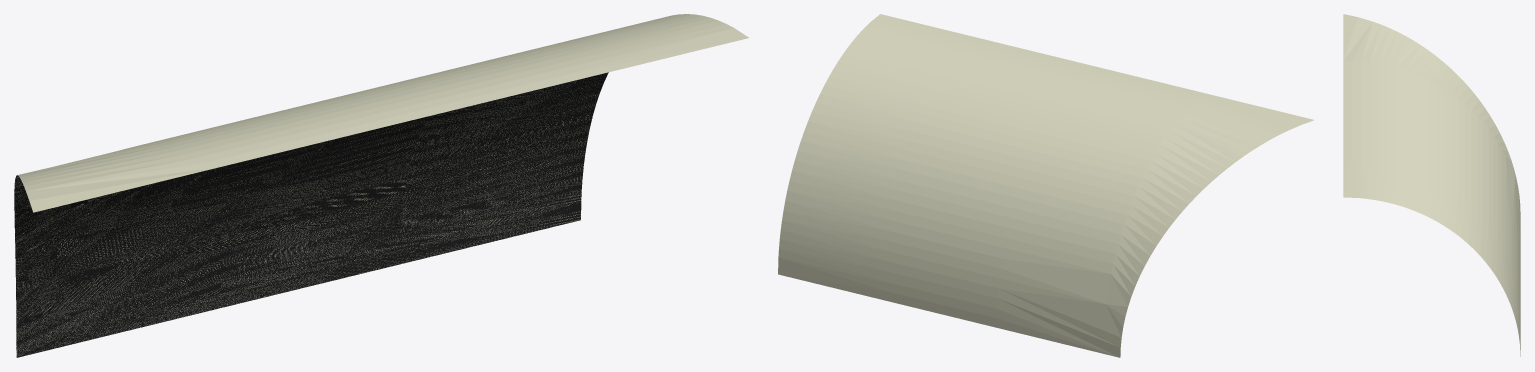
Rendered from original-17.obj.
3 renders of one model, left to right at view 1: azimuth 30°, elevation 25°; view 2: azimuth 150°, elevation 25°; view 3: azimuth 270°, elevation 25°, orthographic. The views are drawn at different scales.
Visible parts, largest first — view 1: Obj_000017_1/Obj_000017/mesh17/mesh17-geometry#mesh17-geometry; view 2: Obj_000017_1/Obj_000017/mesh17/mesh17-geometry#mesh17-geometry; view 3: Obj_000017_1/Obj_000017/mesh17/mesh17-geometry#mesh17-geometry.
Part boxes in pixels (bbox=[...]): Obj_000017_1/Obj_000017/mesh17/mesh17-geometry#mesh17-geometry: bbox=[14, 14, 748, 357]; Obj_000017_1/Obj_000017/mesh17/mesh17-geometry#mesh17-geometry: bbox=[778, 14, 1314, 357]; Obj_000017_1/Obj_000017/mesh17/mesh17-geometry#mesh17-geometry: bbox=[1343, 14, 1520, 356].
Bounding box in the file's own units: 0.1297 × 0.0529 × 0.0529.
